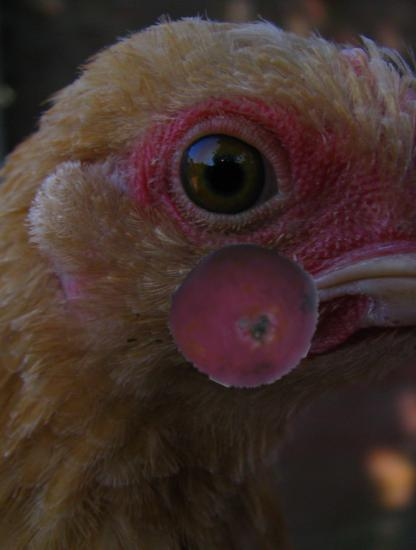Pomegranate: (171, 241, 318, 388)
